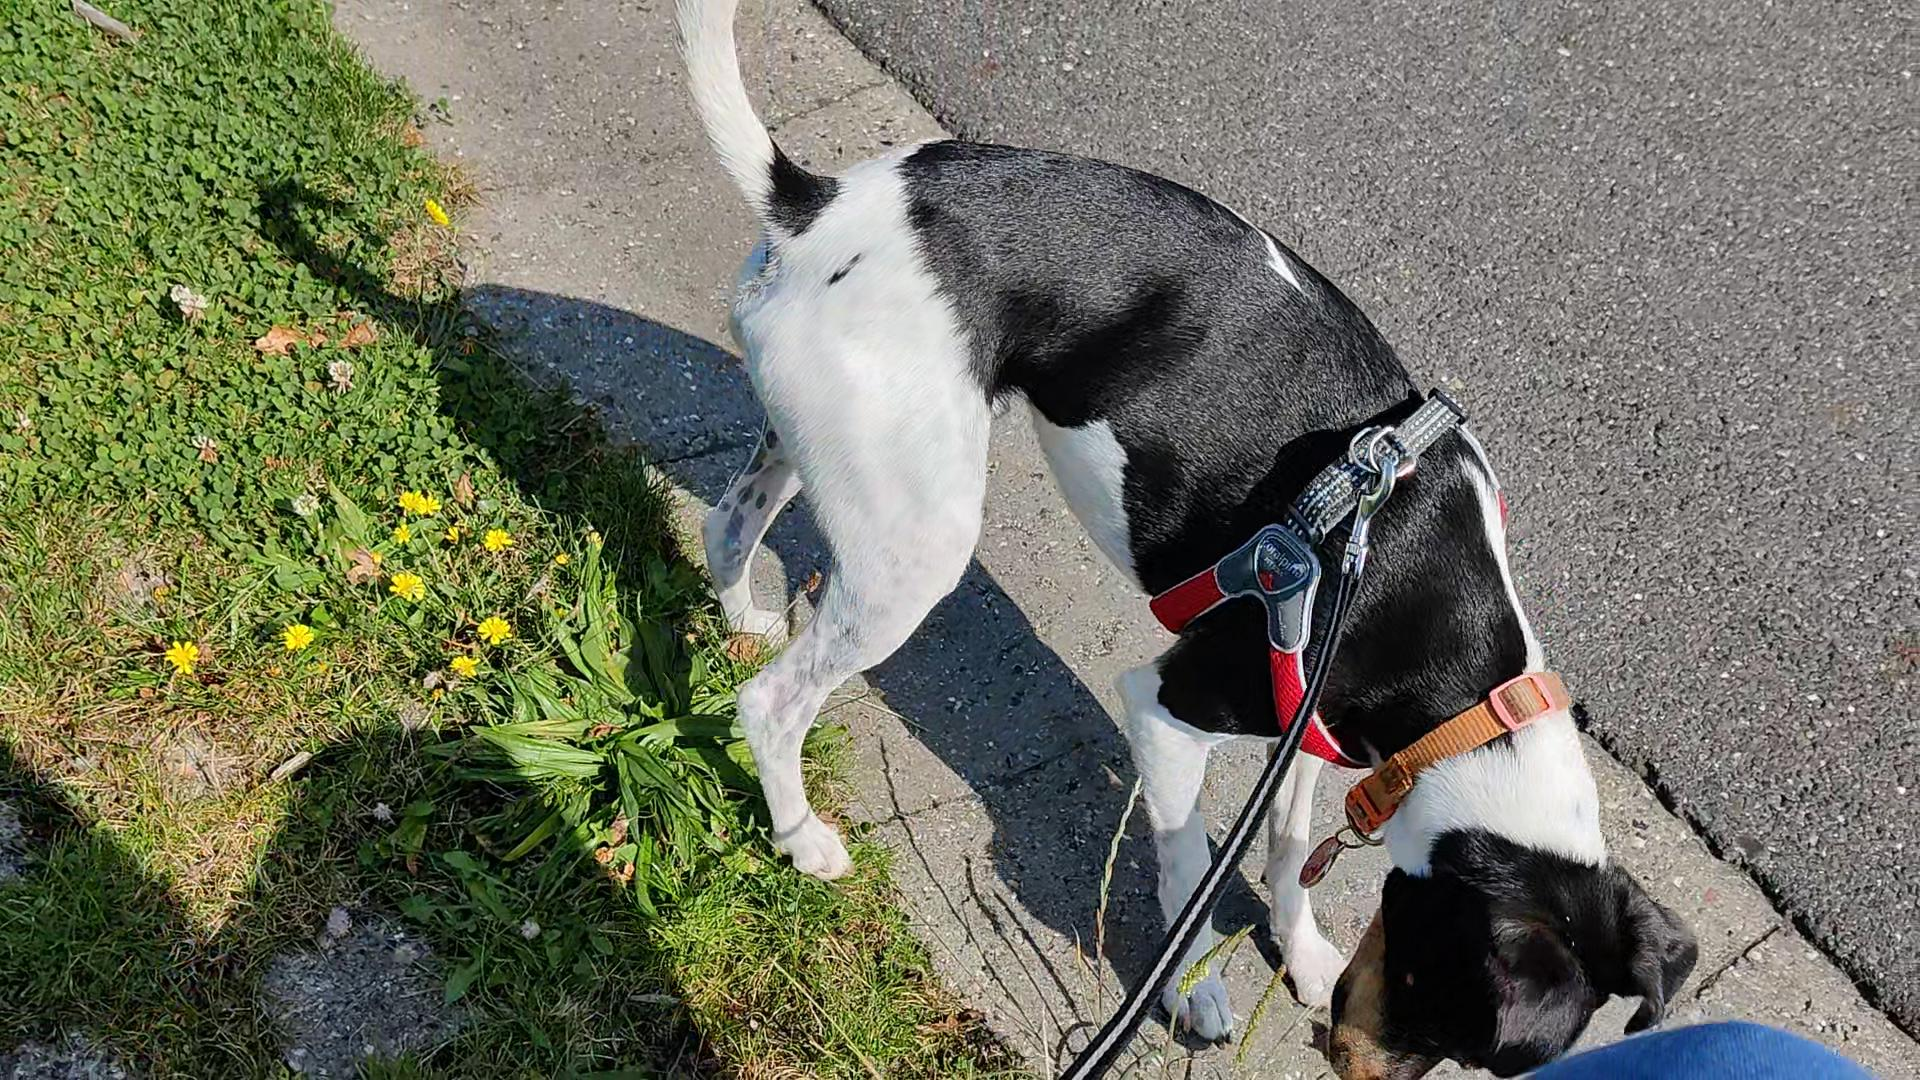Dog: (661, 0, 1713, 1079)
